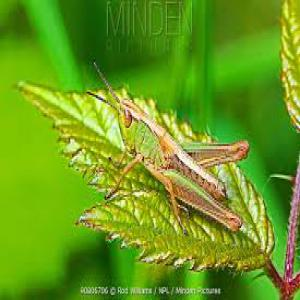locust: (83, 70, 255, 234)
